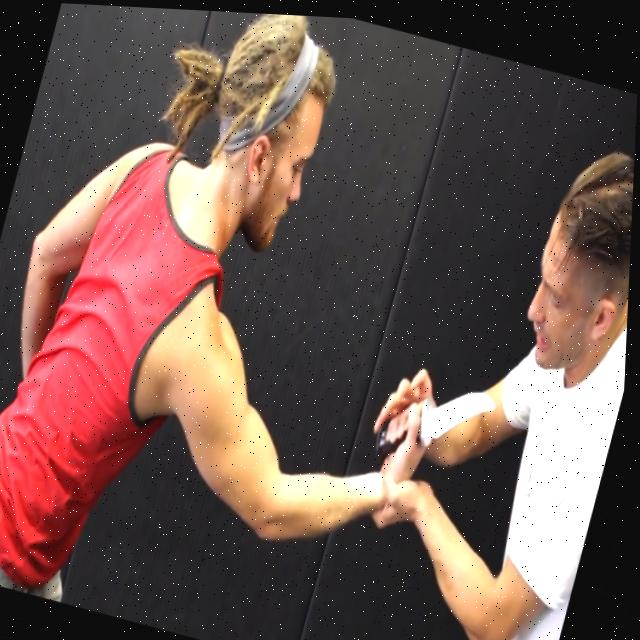knife: (418, 360, 507, 454)
